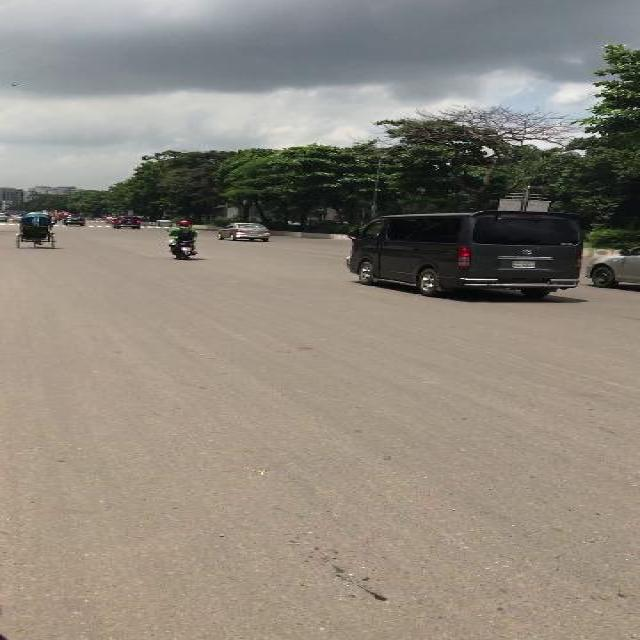car: (213, 222, 270, 240)
motorbike: (164, 220, 198, 260)
rickshaw: (14, 210, 57, 250)
suv: (111, 215, 141, 229), (62, 214, 84, 226)
van: (344, 208, 584, 298)
